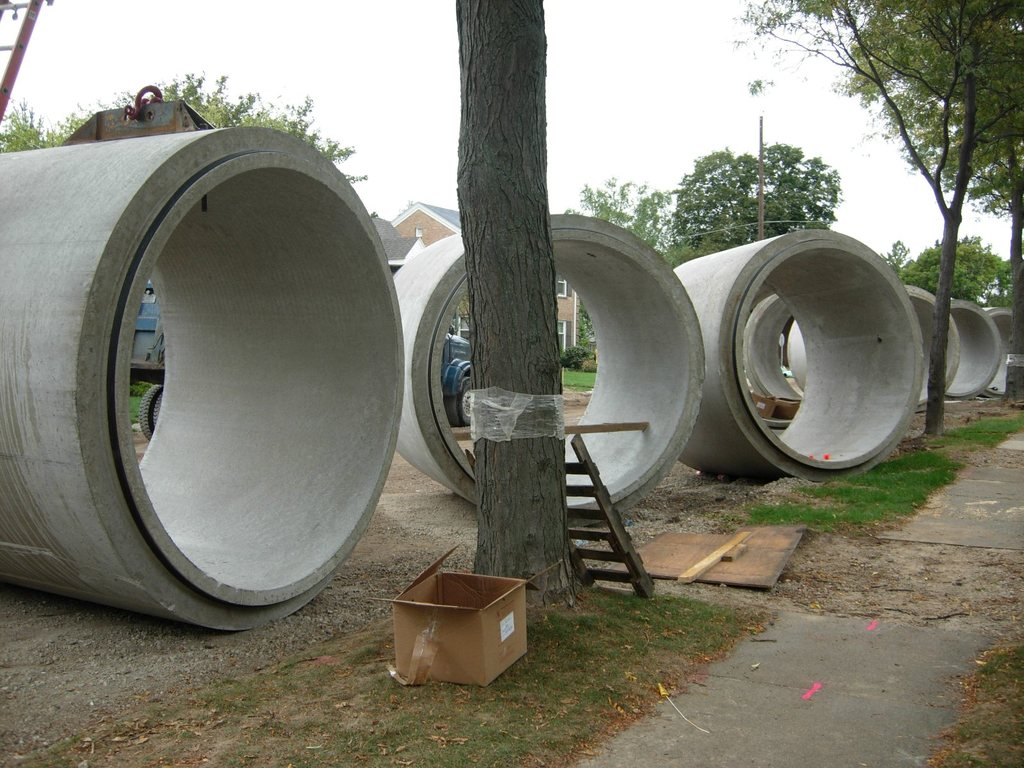Tree: (728, 0, 1024, 437), (0, 68, 380, 218), (559, 172, 706, 347), (666, 139, 840, 253), (895, 233, 1009, 301)
